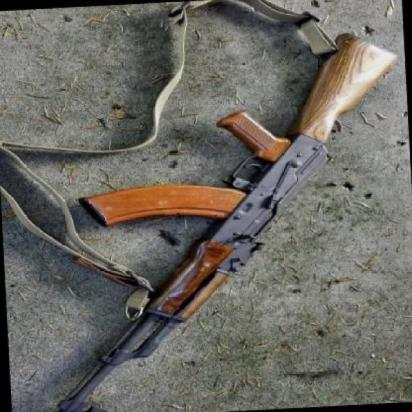Gun: (13, 6, 412, 412)
